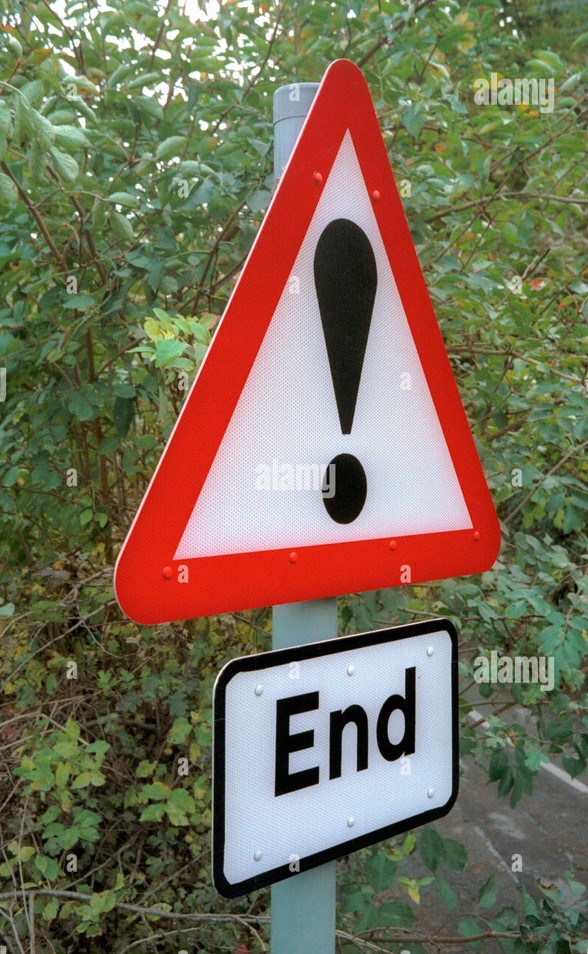Danger: (112, 58, 503, 627)
